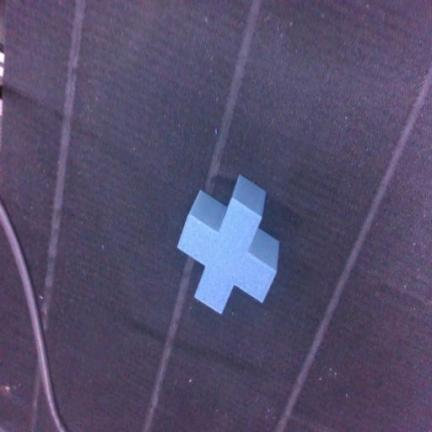cross: (179, 176, 279, 313)
